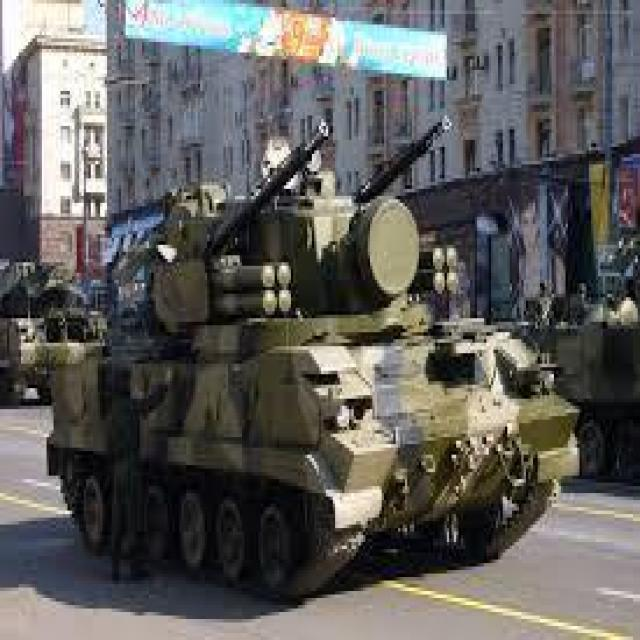Tanks: (2, 54, 568, 589), (6, 182, 113, 413)
